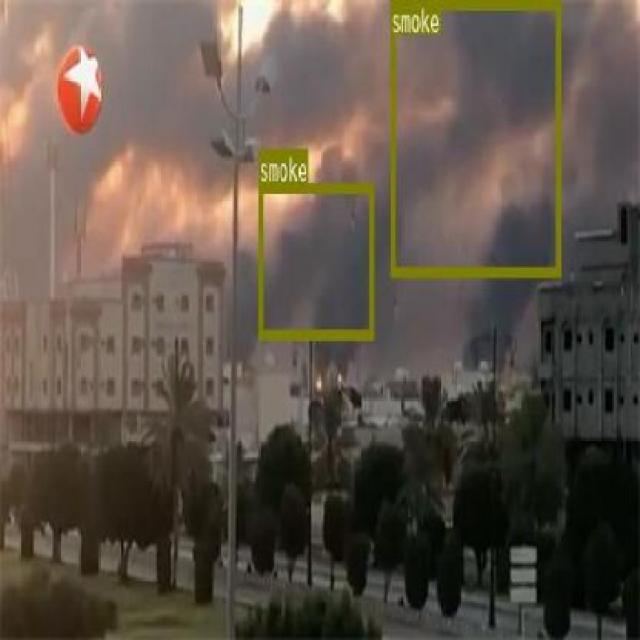smoke: (389, 0, 558, 275), (258, 182, 374, 336)
